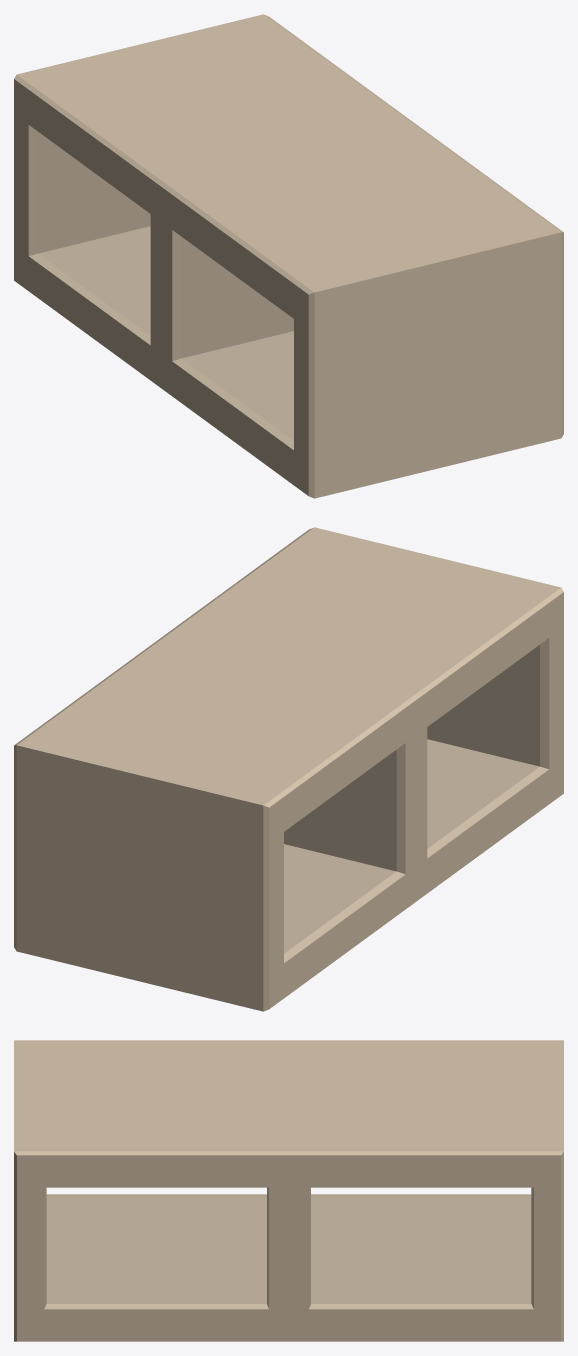
File: cinder_block.obj
3 views of the same model, one above another, from view 1: azimuth 30°, elevation 25°; view 2: azimuth 150°, elevation 25°; view 3: azimuth 270°, elevation 25° (orthographic). The views are drawn at different scales.
Visible parts, largest first — view 1: Cube; view 2: Cube; view 3: Cube.
Part boxes in pixels (x1=…): Cube: x1=14, y1=14, x2=563, y2=498; Cube: x1=14, y1=527, x2=563, y2=1011; Cube: x1=14, y1=1040, x2=563, y2=1341.
Bounding box in the file's own units: 0.7285 × 0.5622 × 1.47.
